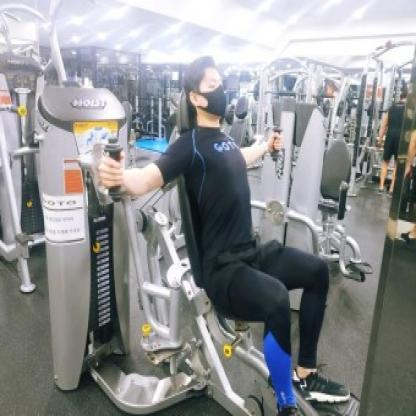chest fly machine: (29, 18, 349, 416)
